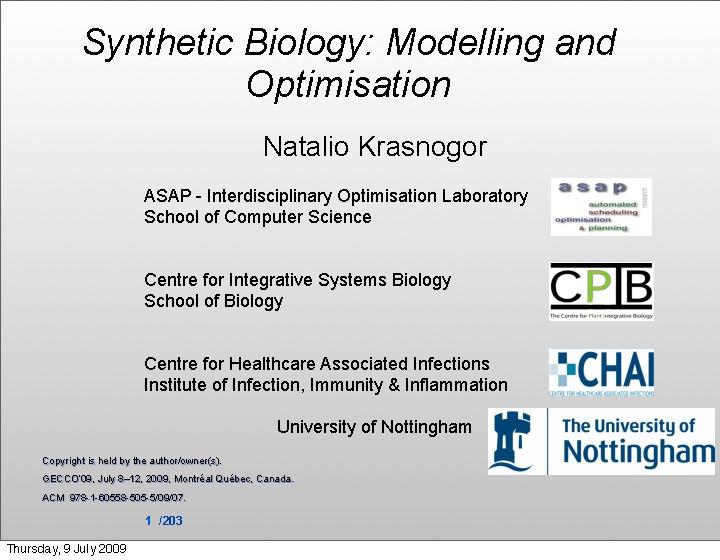paragraph: (67, 127, 548, 452)
title: (73, 9, 650, 118)
